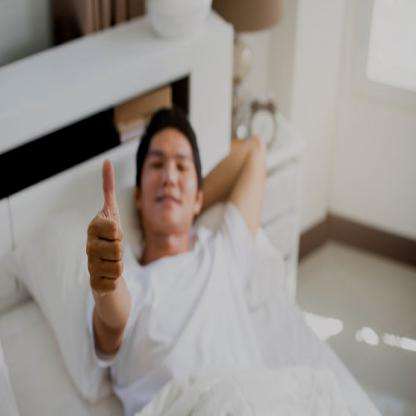Thumbs up: (90, 156, 121, 290)
